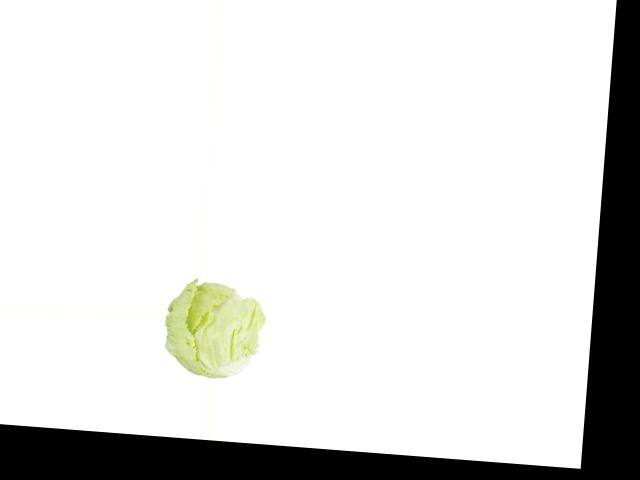lettuce: (161, 278, 264, 384)
